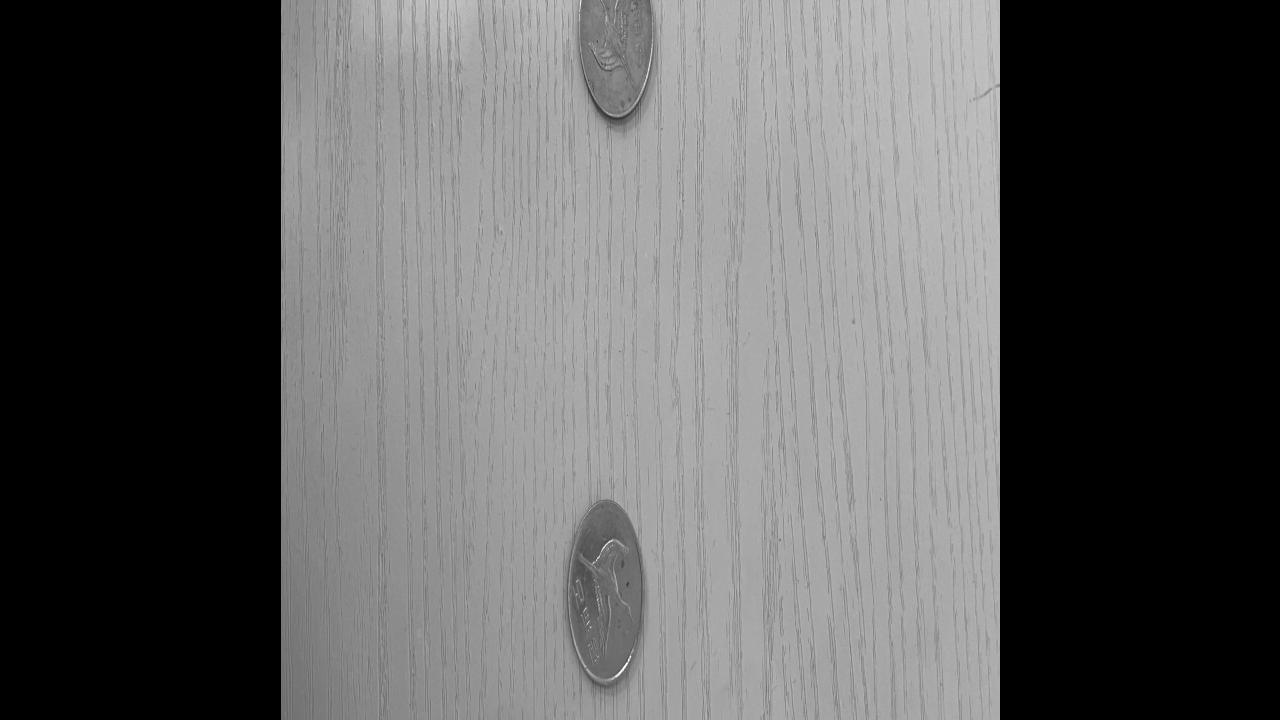coin: (565, 492, 645, 688), (576, 0, 653, 120)
